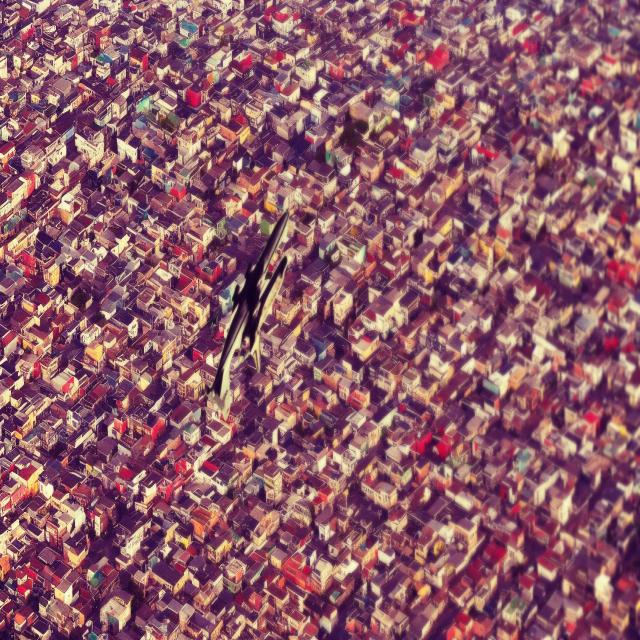airplane: (205, 207, 290, 417)
